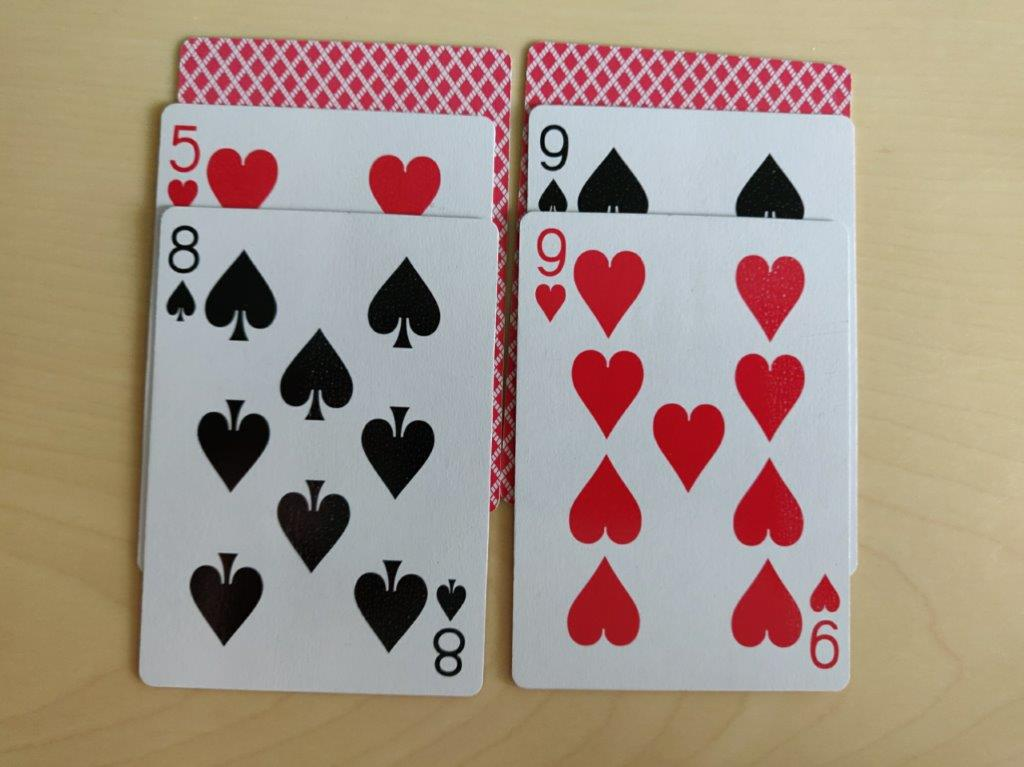5H: (165, 119, 205, 209)
8S: (163, 221, 201, 326)
9H: (528, 224, 568, 325)
9S: (532, 119, 576, 213)
BACK: (172, 29, 515, 120), (529, 38, 862, 113)
